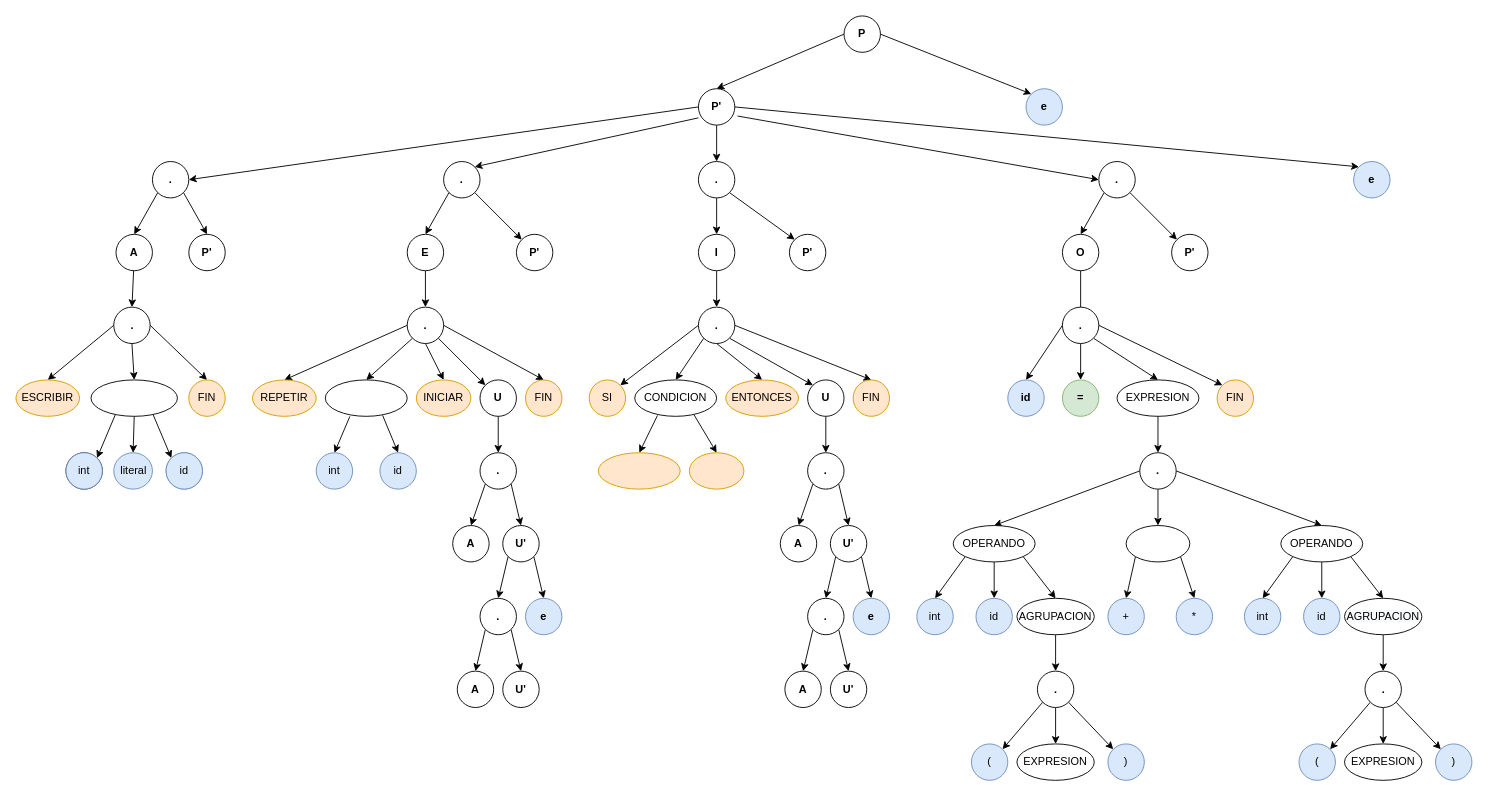
Some shapes in this 1488 by 796 pixel diagram are drawn without their labels. Here are the shapes that lost their labels. From the top down, the box of each, then its label:
(90, 379, 177, 416): ESCRIBIR-TKN
(324, 379, 407, 416): REPETIR-TKN
(597, 452, 680, 489): VERDADERO
(688, 452, 744, 489): FALSO
(1125, 525, 1190, 562): SIMBOLO
